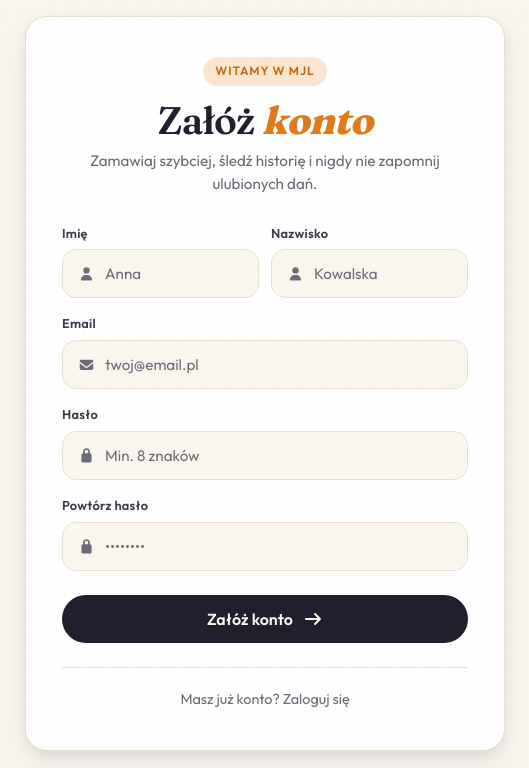
Test: Register › wyświetla błąd gdy hasła nie są takie same
Type "Jan" into the field with placeholder "Anna" at x=160, y=274, box [62,249,259,298]
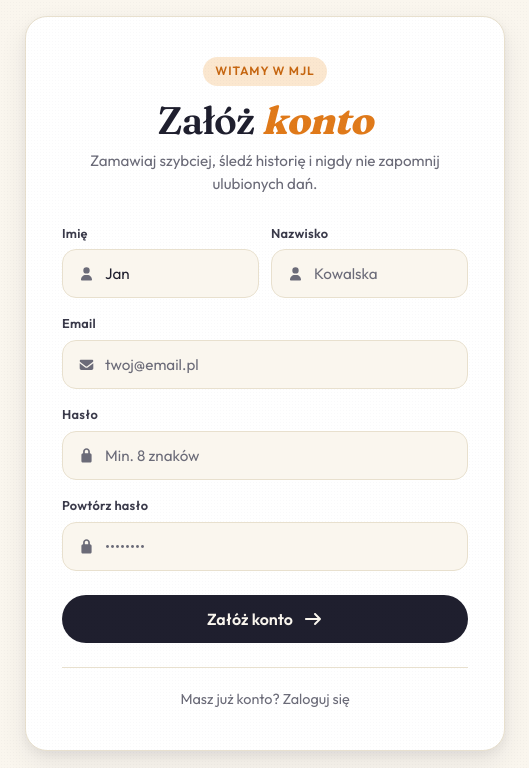
Type "Nowak" into the field with placeholder "Kowalska" at x=370, y=274, box [271,249,468,298]
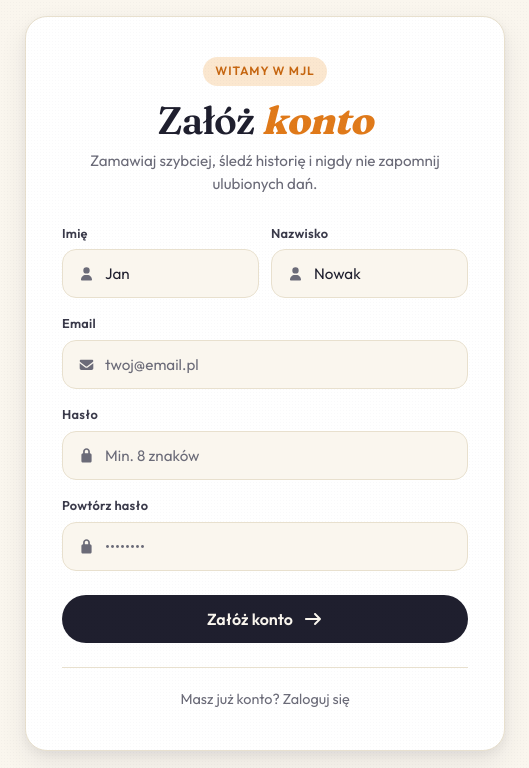
Type "jan@test.com" into the field with placeholder "twoj@email.pl" at x=265, y=365, box [62,340,468,389]
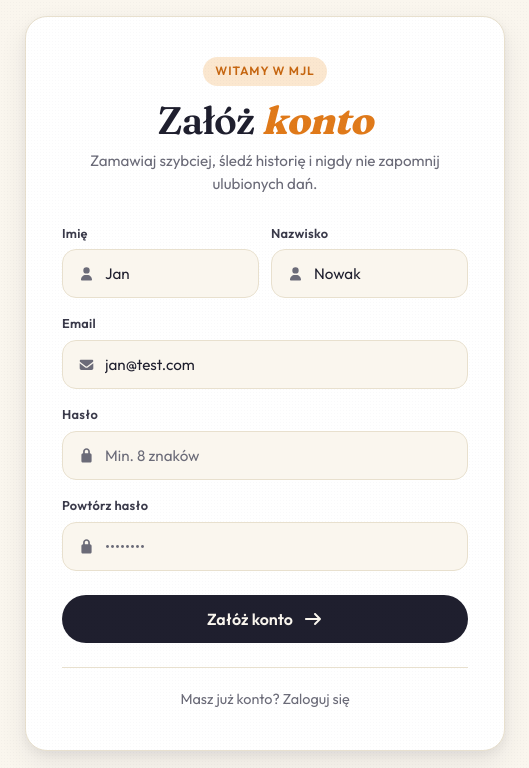
Type "haslo123" into the password field with placeholder "Min. 8 znaków" at x=265, y=456, box [62,431,468,480]
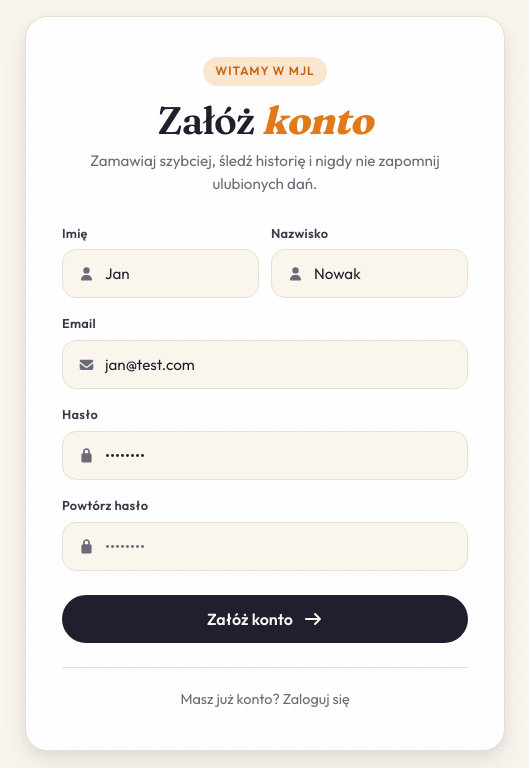
Type "innehaslo" into the password field with placeholder "••••••••" at x=265, y=546, box [62,522,468,571]
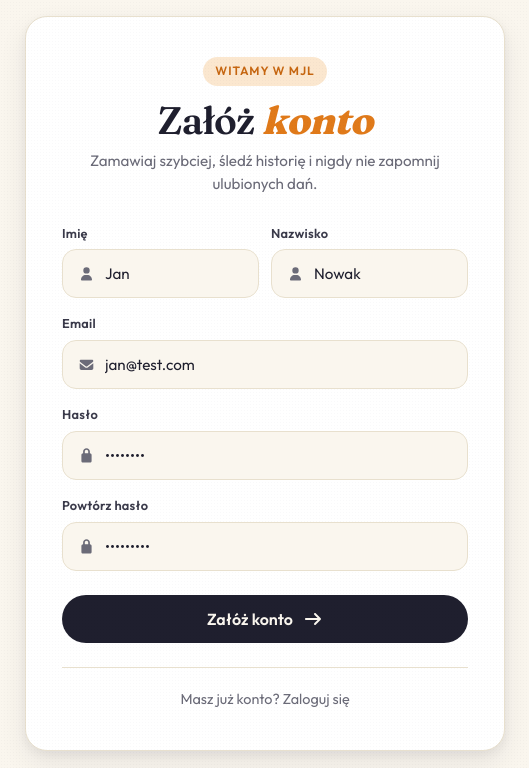
Submit the form "Imię Nazwisko Email Hasło Powtórz hasło Załóż konto", box [62,224,468,643]
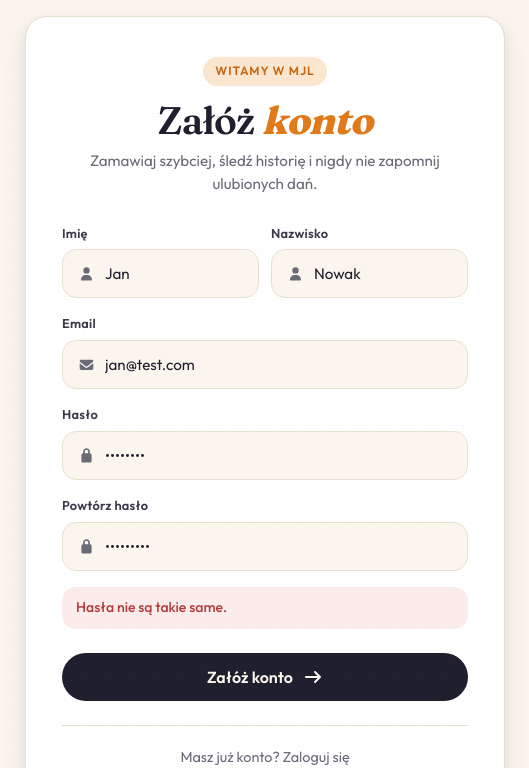
Result: the text "Hasła nie są takie same." is shown at [62,587,468,629]
